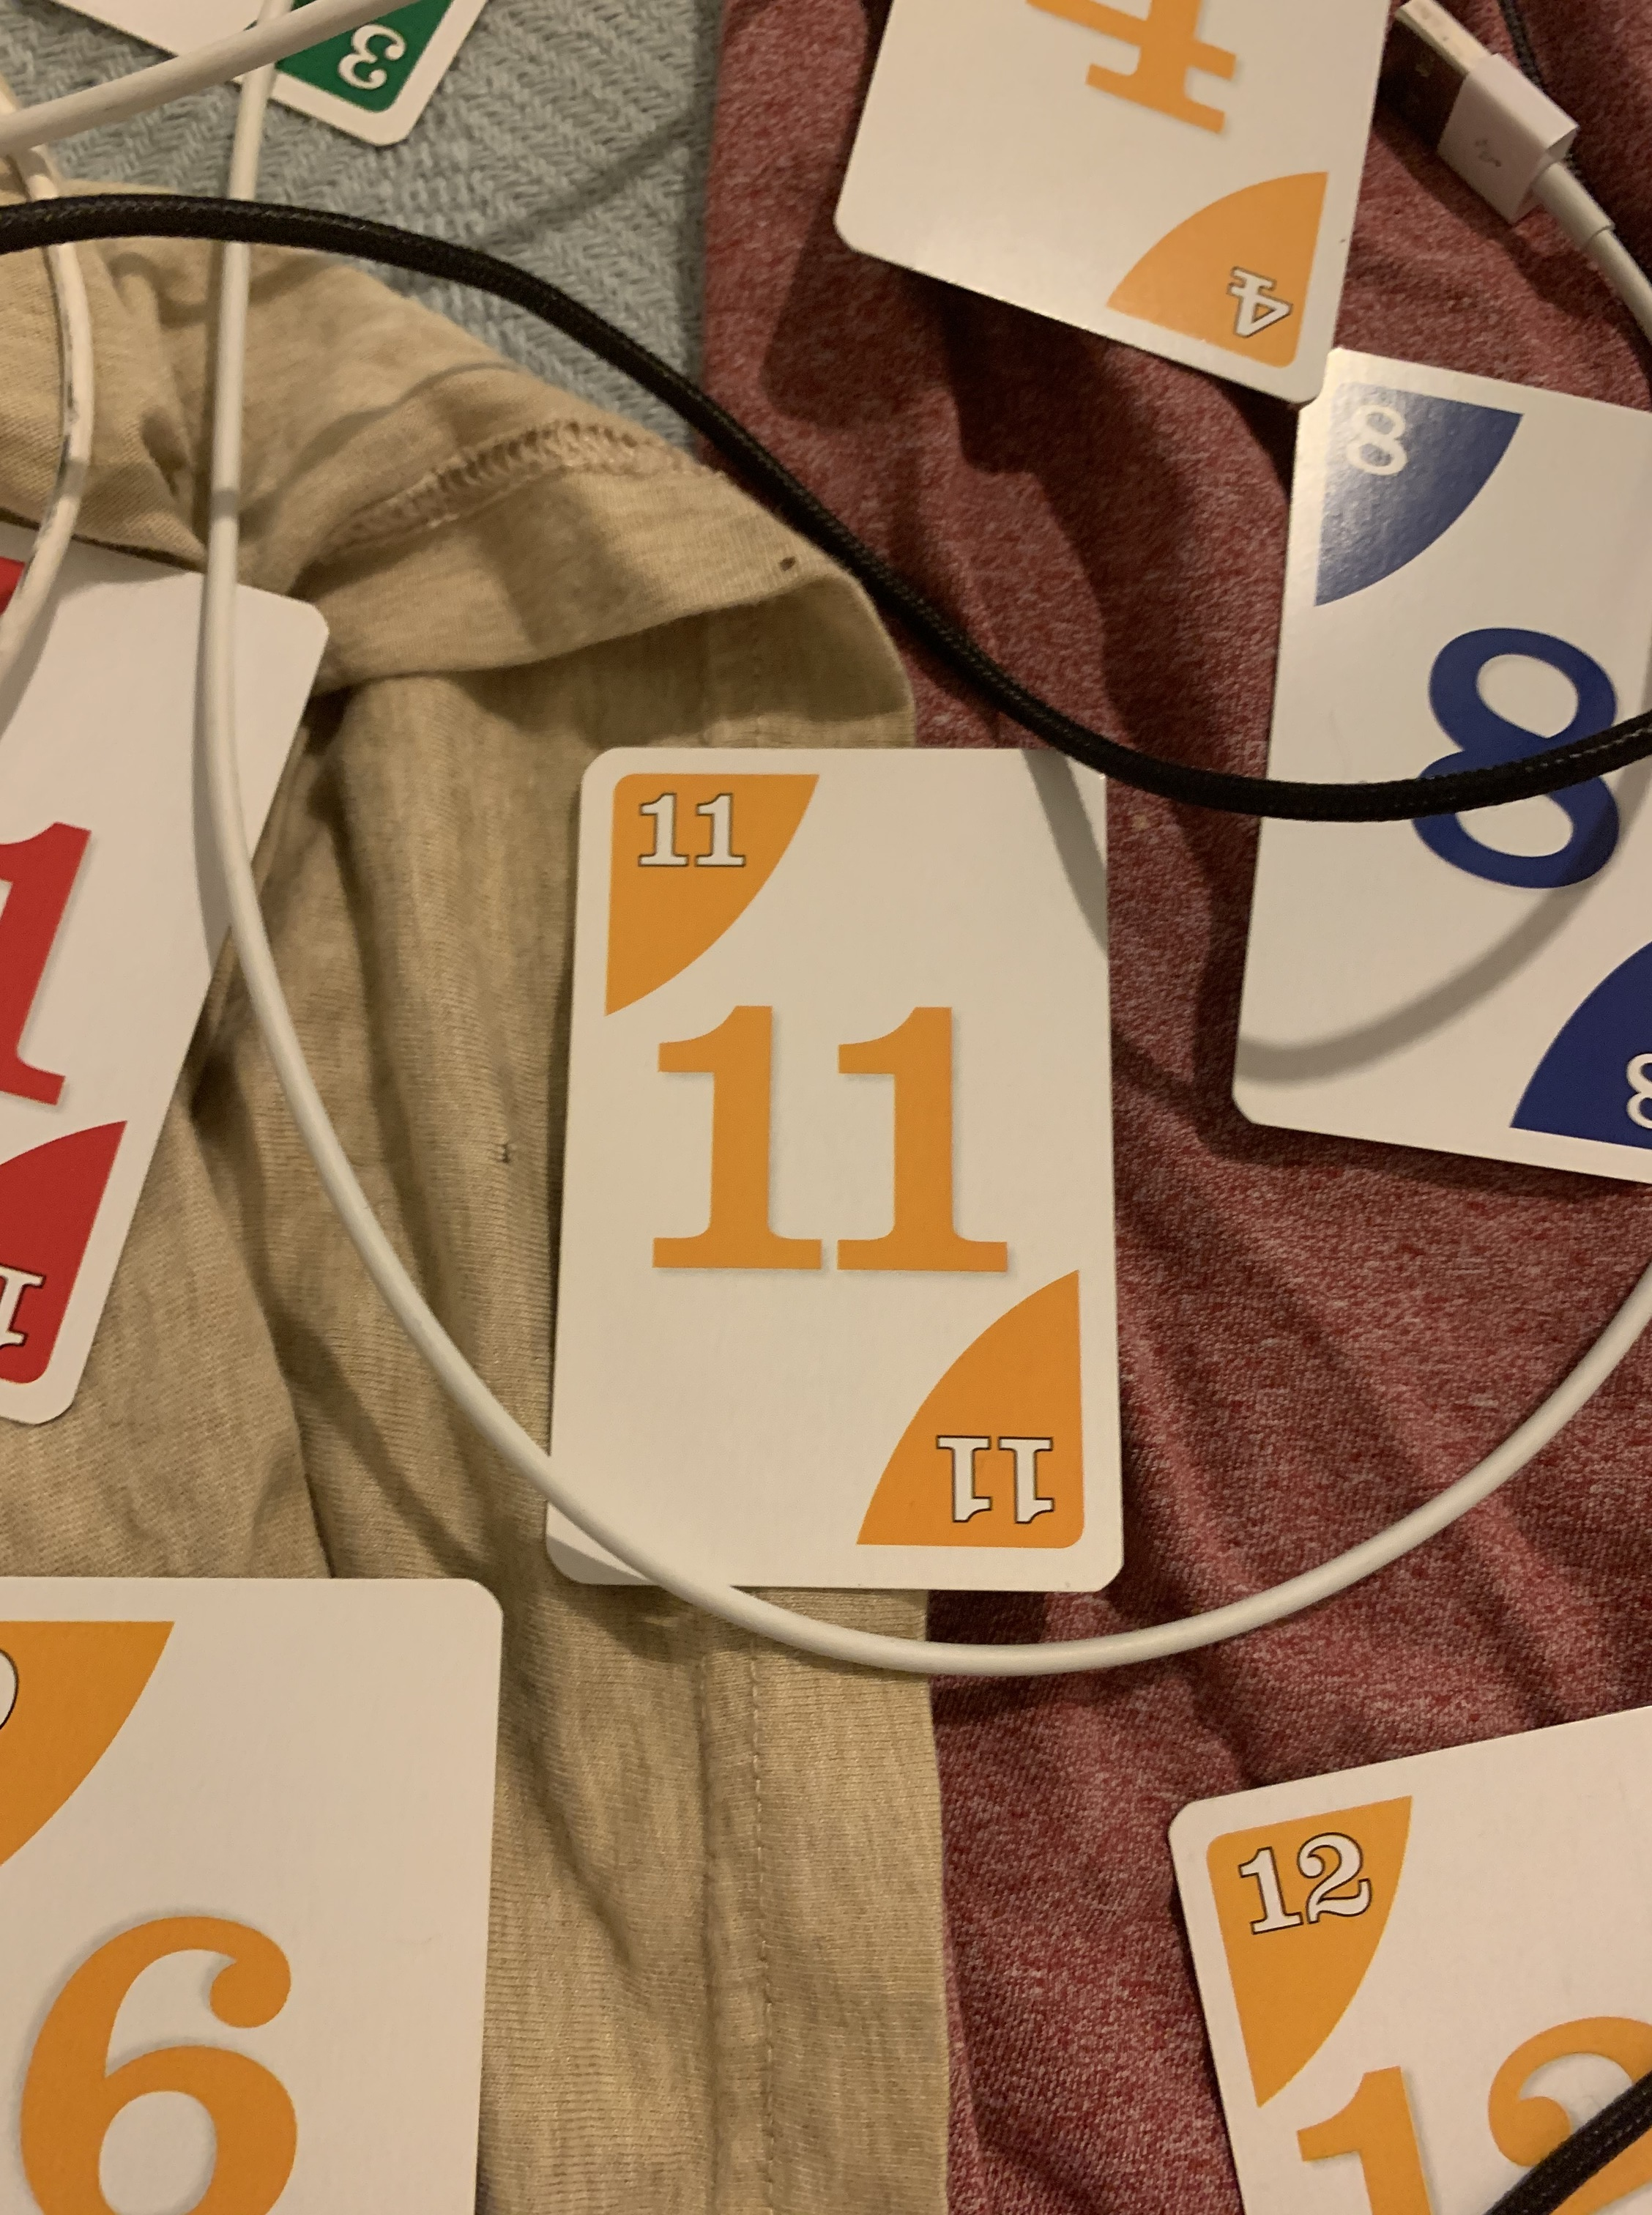eight: (1222, 342, 1652, 1182)
eleven: (531, 729, 1145, 1614)
six: (0, 1569, 529, 2208)
